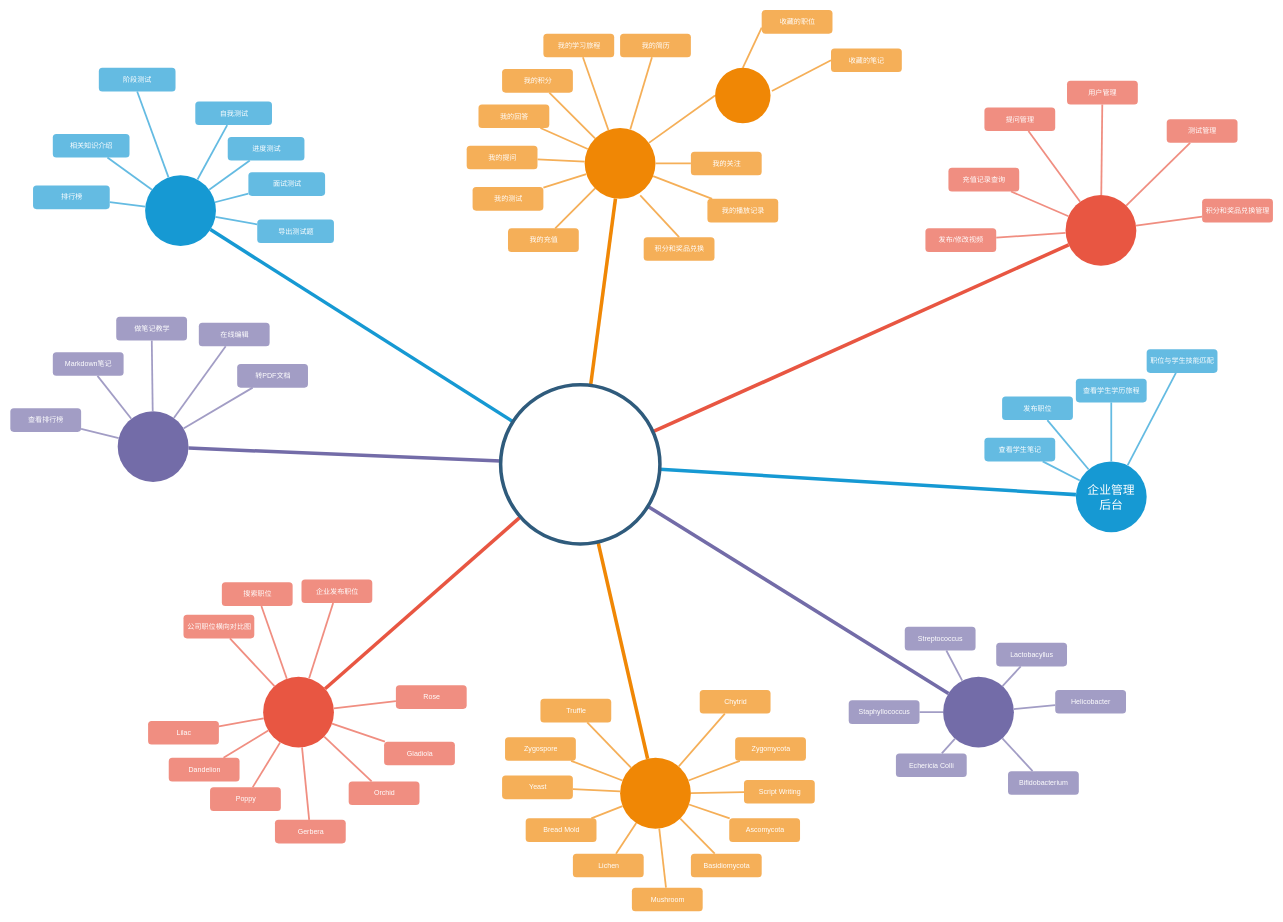
The diagram is 1283 pixels wide and 922 high, and some of its shapes have lost their labels. The shapes that lost their labels are listed below. From the top down, each one's box as (x1, y1, x2, y2) in pixels, then its label:
(715, 68, 770, 123): 我的收藏
(584, 128, 655, 199): 学生个人 面板
(145, 175, 216, 246): 测试
(1065, 195, 1136, 266): 管理员后台
(117, 411, 188, 482): 笔记
(499, 383, 661, 545): 在线教育
(263, 676, 334, 747): 招聘
(943, 676, 1014, 747): Bacteria
(620, 758, 691, 828): 积分
